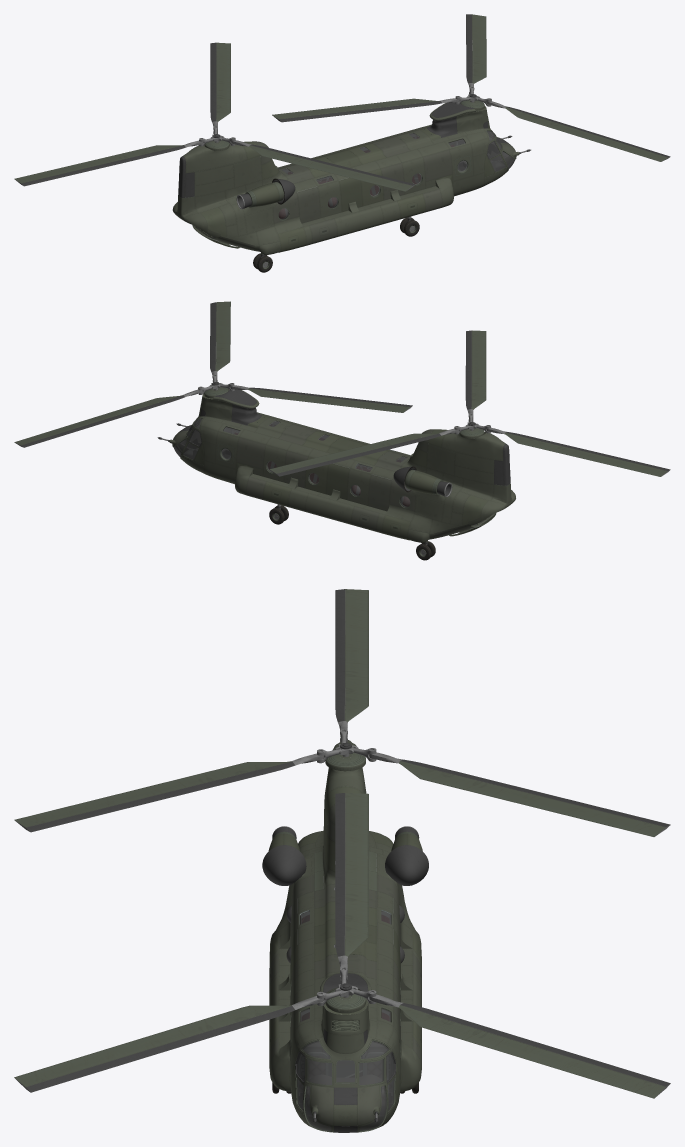
Rendered from chinook-optimized.glb.
3 views of the same model, one above another, from view 1: azimuth 30°, elevation 25°; view 2: azimuth 150°, elevation 25°; view 3: azimuth 270°, elevation 25° (orthographic). The views are drawn at different scales.
Visible parts, largest first — view 1: Cube.006_Chinook_Exterior_0, Retopo_Cube.017_Material_0, Cube.028_Chinook Interior_0; view 2: Cube.006_Chinook_Exterior_0, Retopo_Cube.017_Material_0, Cube.028_Chinook Interior_0; view 3: Cube.006_Chinook_Exterior_0, Retopo_Cube.017_Material_0, Cube.028_Chinook Interior_0.
Part boxes in pixels (bbox=[...]): Cube.006_Chinook_Exterior_0: bbox=[14, 14, 670, 272]; Retopo_Cube.017_Material_0: bbox=[207, 131, 515, 241]; Cube.028_Chinook Interior_0: bbox=[283, 134, 507, 218]; Cube.006_Chinook_Exterior_0: bbox=[14, 301, 670, 560]; Retopo_Cube.017_Material_0: bbox=[173, 414, 480, 528]; Cube.028_Chinook Interior_0: bbox=[181, 422, 405, 505]; Cube.006_Chinook_Exterior_0: bbox=[14, 589, 670, 1132]; Retopo_Cube.017_Material_0: bbox=[286, 888, 404, 1131]; Cube.028_Chinook Interior_0: bbox=[298, 910, 392, 1115].
Bounding box in the file's own units: 26.21 × 5.76 × 16.3.
4 materials, 3 textured.
